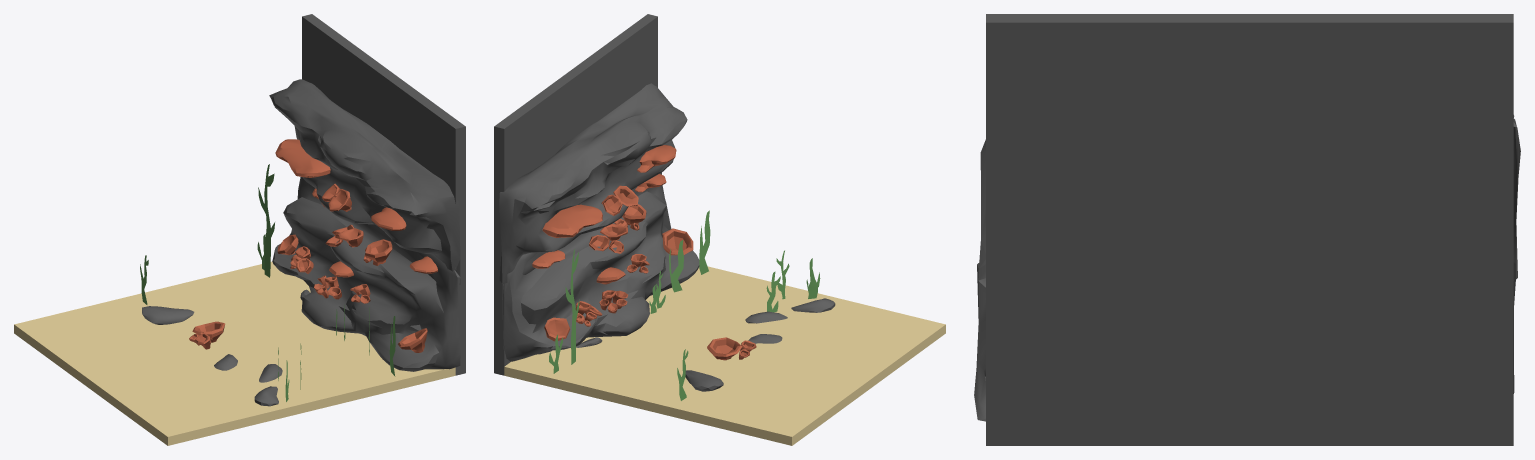
Rendered from SM_Tile_07.fbx.
3 renders of one model, left to right at view 1: azimuth 30°, elevation 25°; view 2: azimuth 150°, elevation 25°; view 3: azimuth 270°, elevation 25°, orthographic. The views are drawn at different scales.
Visible parts, largest first — view 1: SM_Tile_07; view 2: SM_Tile_07; view 3: SM_Tile_07.
Boxes of the visible parts, x1=… form: SM_Tile_07: x1=14, y1=14, x2=465, y2=445; SM_Tile_07: x1=494, y1=14, x2=945, y2=445; SM_Tile_07: x1=974, y1=14, x2=1520, y2=445.
Bounding box in the file's own units: 3213 × 2551 × 2974.
